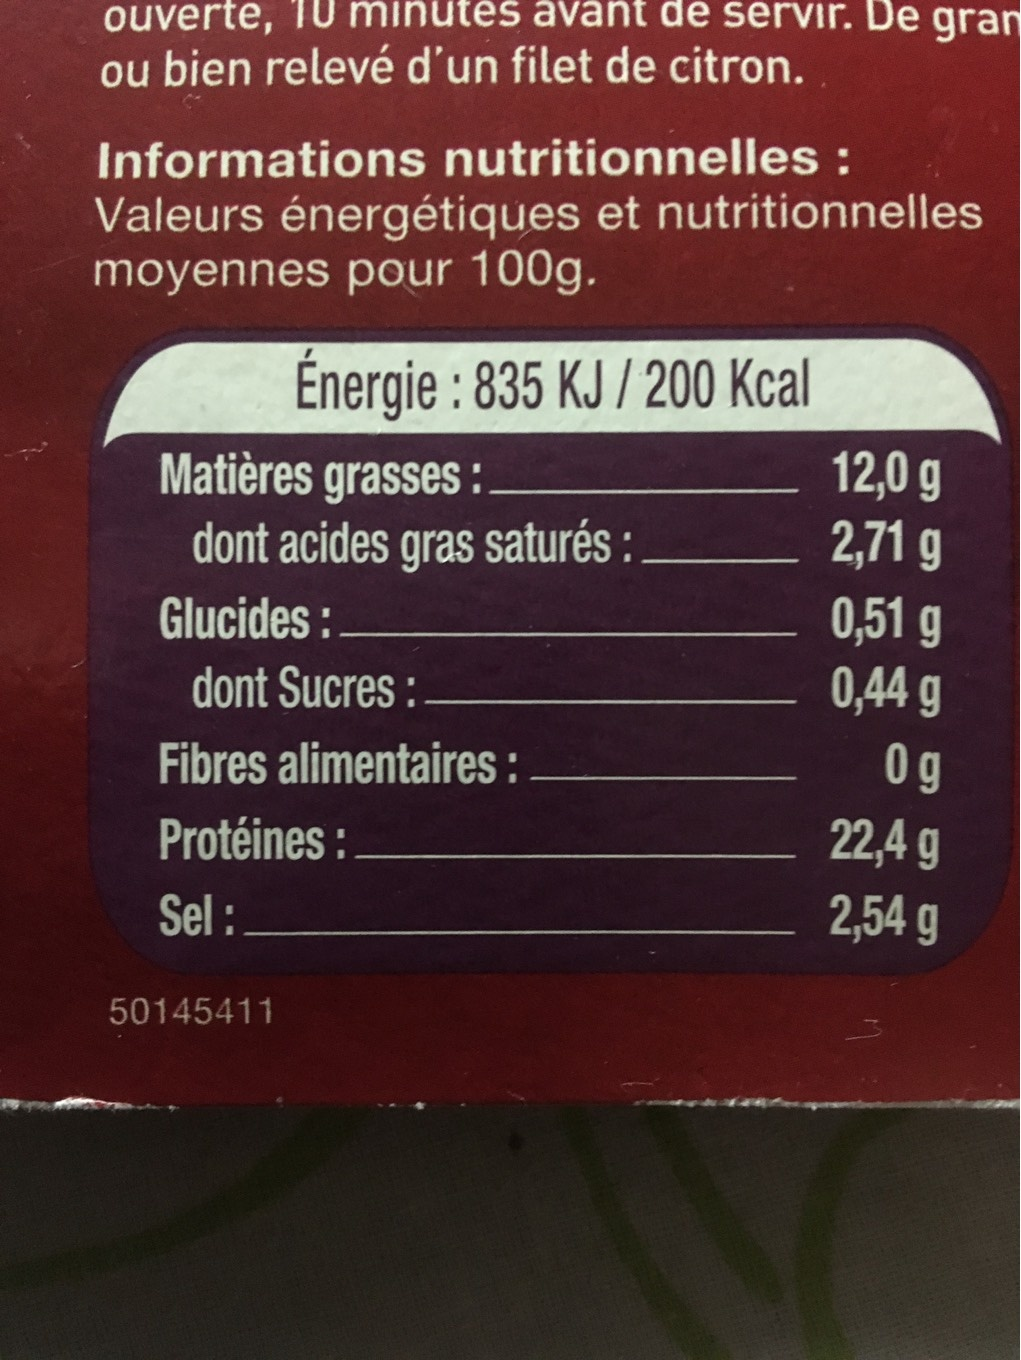table: (86, 335, 1011, 970)
